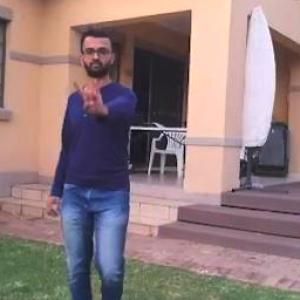takeoff-hand: (73, 70, 111, 120)
